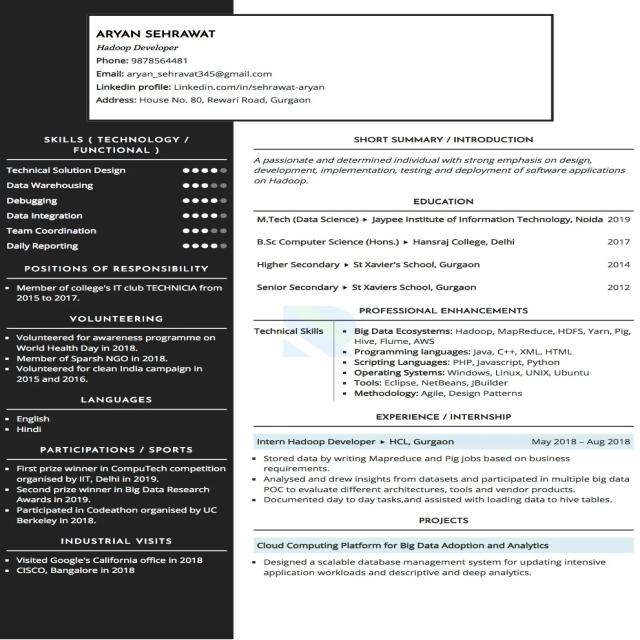contact: (92, 54, 344, 115)
education: (252, 197, 640, 298)
experience: (248, 411, 640, 504), (7, 263, 226, 310)
header: (90, 21, 270, 54)
languages: (1, 392, 232, 438)
projects: (246, 516, 632, 598)
skills: (248, 302, 634, 406), (4, 128, 231, 262)
summary: (247, 132, 638, 189)
